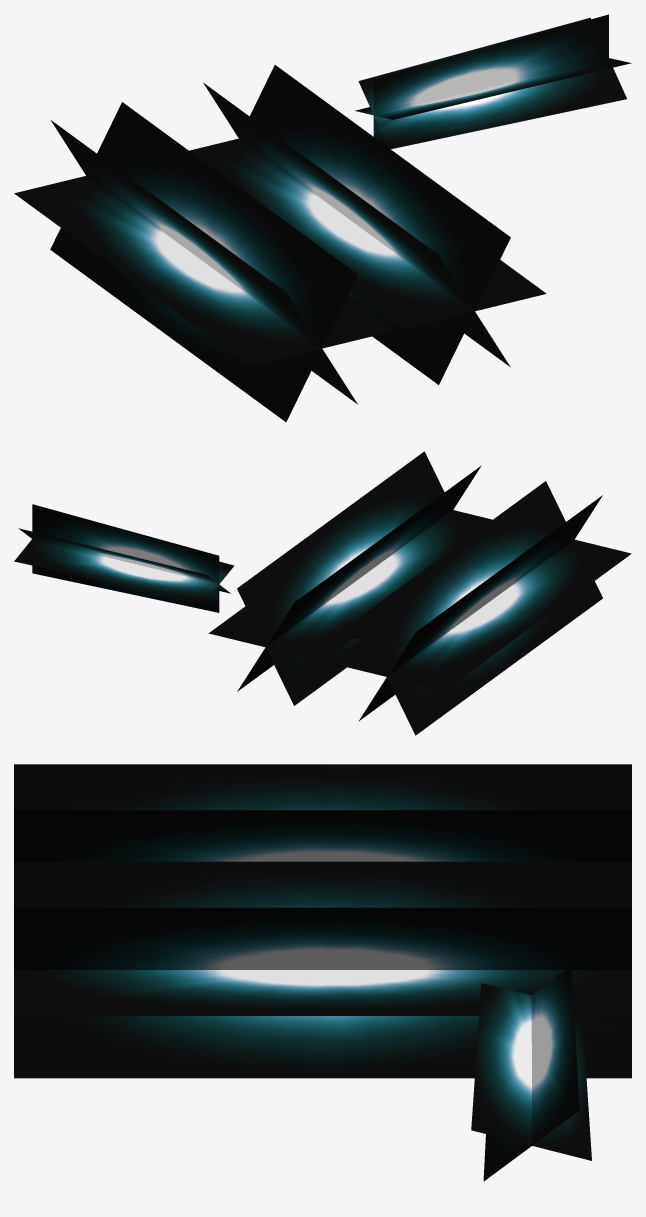
The model's file is Mr.War3_Flanqi4_g1-2-10.fbx.
3 renders of one model, top to bottom at view 1: azimuth 30°, elevation 25°; view 2: azimuth 150°, elevation 25°; view 3: azimuth 270°, elevation 25°, orthographic. The views are drawn at different scales.
Visible parts, largest first — view 1: Mr.War3_Flanqi4_g1_L0_blend, Mr.War3_Flanqi4_g2_L0_add; view 2: Mr.War3_Flanqi4_g1_L0_blend, Mr.War3_Flanqi4_g2_L0_add; view 3: Mr.War3_Flanqi4_g1_L0_blend, Mr.War3_Flanqi4_g2_L0_add.
Part boxes in pixels (box(x1,y1,x2,y2)): Mr.War3_Flanqi4_g1_L0_blend: box(14, 65, 546, 421); Mr.War3_Flanqi4_g2_L0_add: box(355, 14, 631, 149); Mr.War3_Flanqi4_g1_L0_blend: box(208, 451, 631, 735); Mr.War3_Flanqi4_g2_L0_add: box(14, 504, 233, 612); Mr.War3_Flanqi4_g1_L0_blend: box(14, 764, 631, 1078); Mr.War3_Flanqi4_g2_L0_add: box(471, 965, 591, 1181).
Size of the model in its own units: 7.69 by 1.8 by 5.65.
